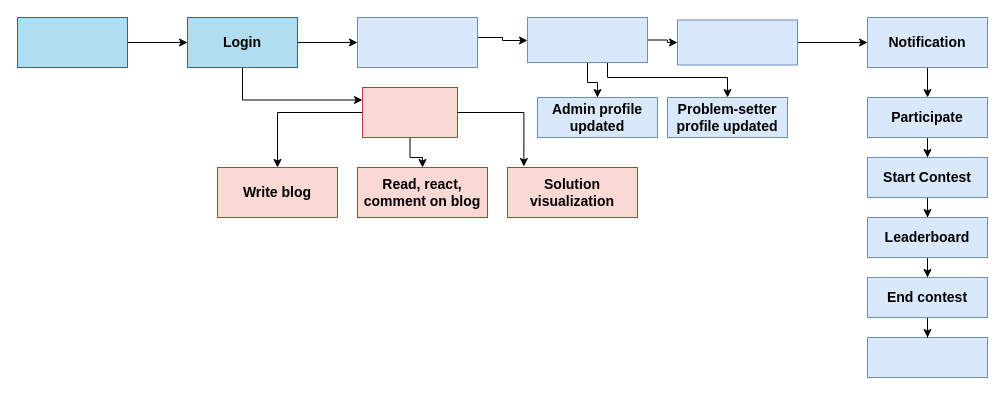
This 1005x395 diagram has some shape labels left out. Here are the shapes that lost their labels. From the top down, the centre of each, then its label:
At (72,42): "Registration".
At (417,42): "Create contest".
At (587,39): "Admin approval".
At (737,42): "Launch".
At (410,112): "Knowledge Nexus".
At (927,357): "Participant Profile updated".
